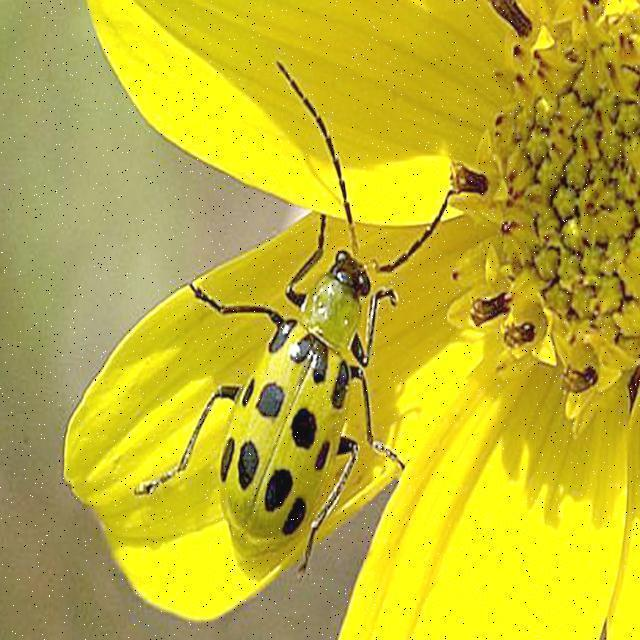gusano_verde: (134, 59, 458, 584)
